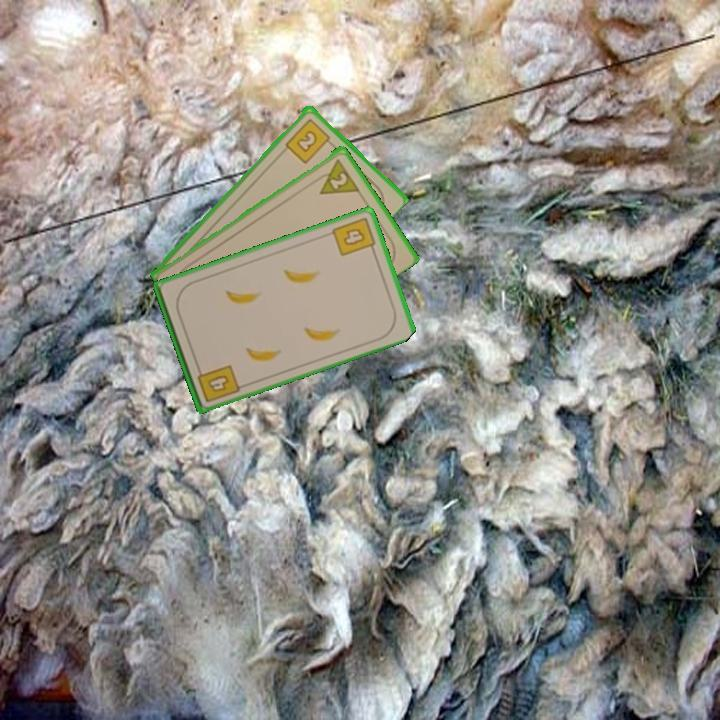2b: (281, 114, 336, 166)
2p: (310, 155, 362, 197)
4b: (328, 213, 378, 259), (193, 361, 242, 405)
